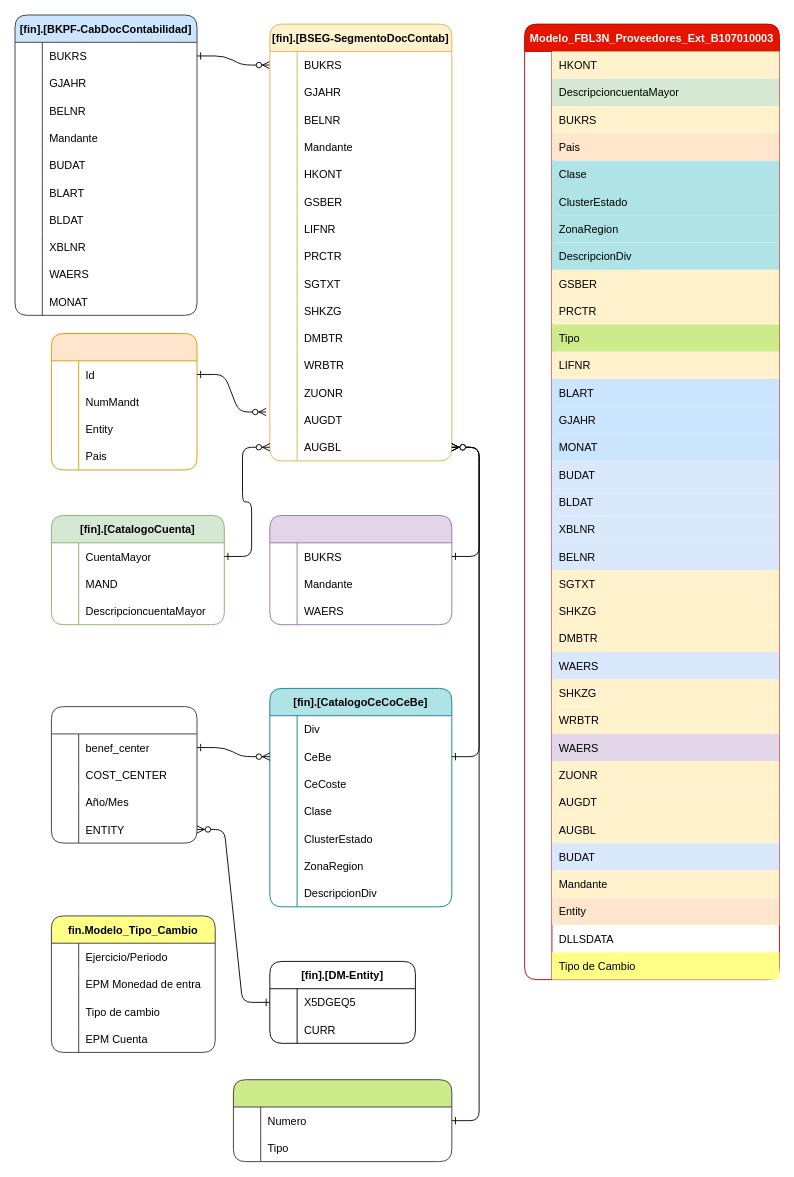
Image size: 794x1177. Some labels were removed from this diagram. The shapes that lost their labels are listed below. From the top down, each one's box as (x1, y1, x2, y2) in pixels, then its label:
(51, 333, 197, 470): [fin].[Catalogo_Paises]
(269, 515, 452, 625): [fin].[T001-Sociedad]
(51, 706, 197, 843): [fin].[Management_Local]
(233, 1079, 452, 1162): [RF].[CATALOGO_TIPO_PROVEEDOR]
